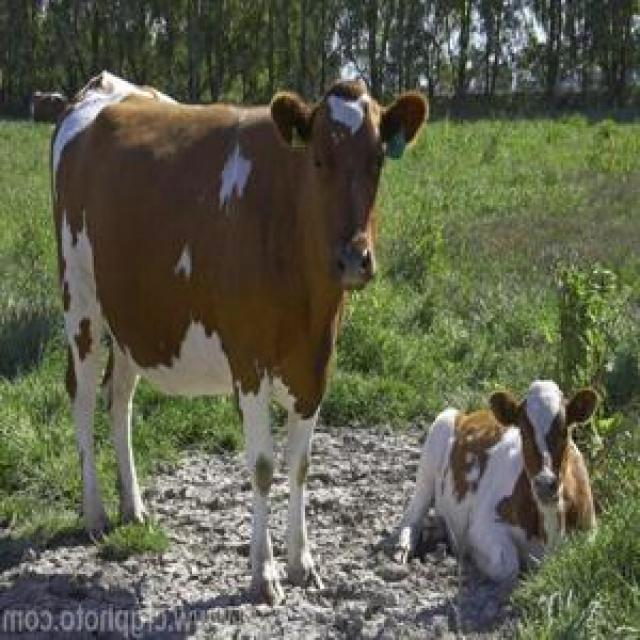cow: (52, 72, 428, 602), (400, 380, 599, 628)
